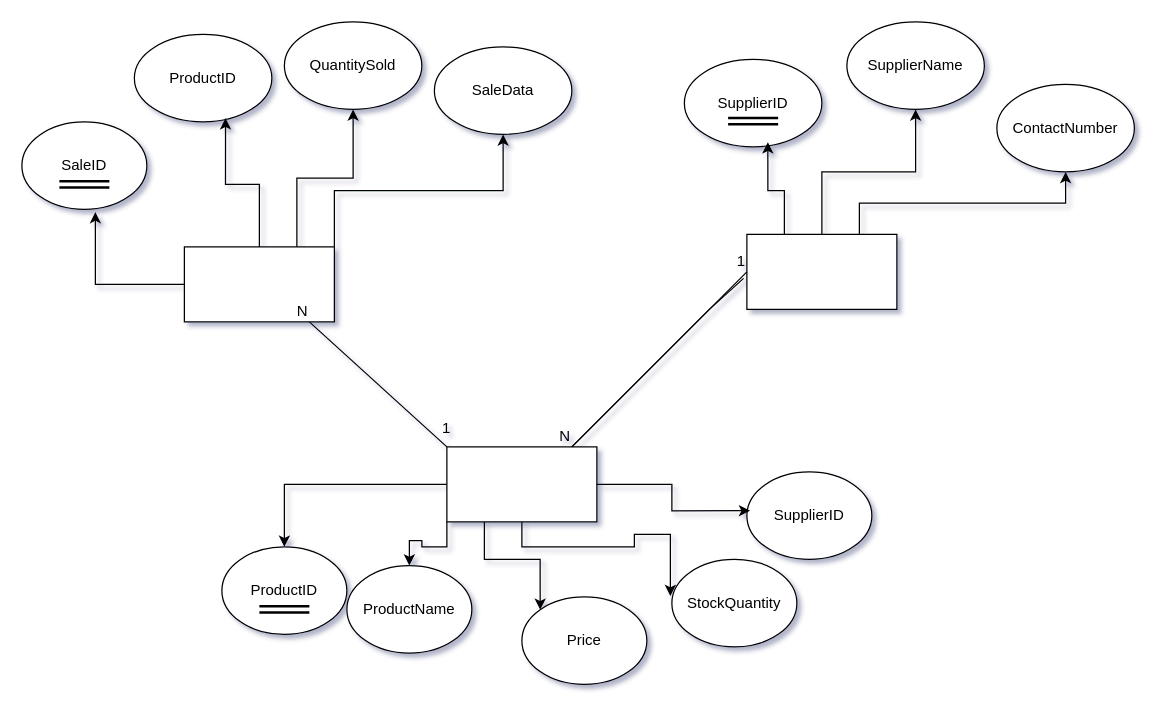
Image size: 1164x714. Some labels were removed from this diagram. The centre of each missing label's shape, as x and y in pixels:
"Products" belongs at (x=521, y=484).
"Sales" belongs at (x=258, y=284).
"Suppliers" belongs at (x=821, y=271).
